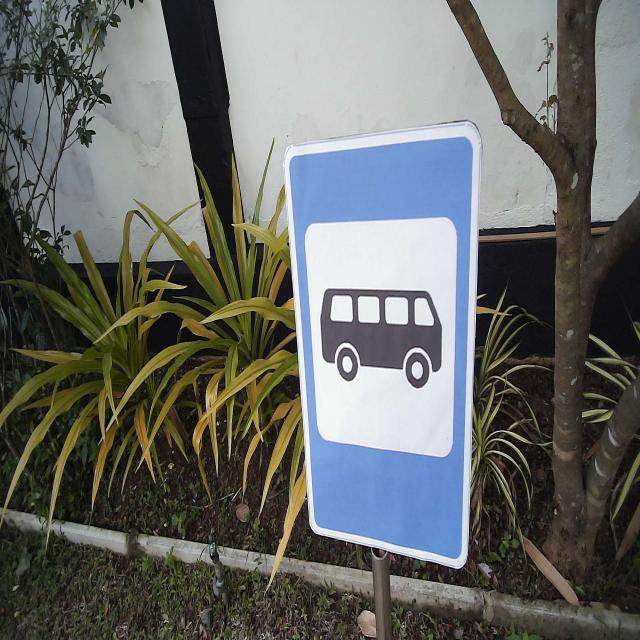bus_stop: (282, 117, 484, 570)
